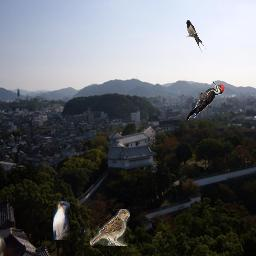Cuckoo: (53, 201, 70, 240)
Sparrow: (90, 209, 130, 246)
Swallow: (186, 20, 207, 53)
Woodpecker: (185, 81, 225, 120)
